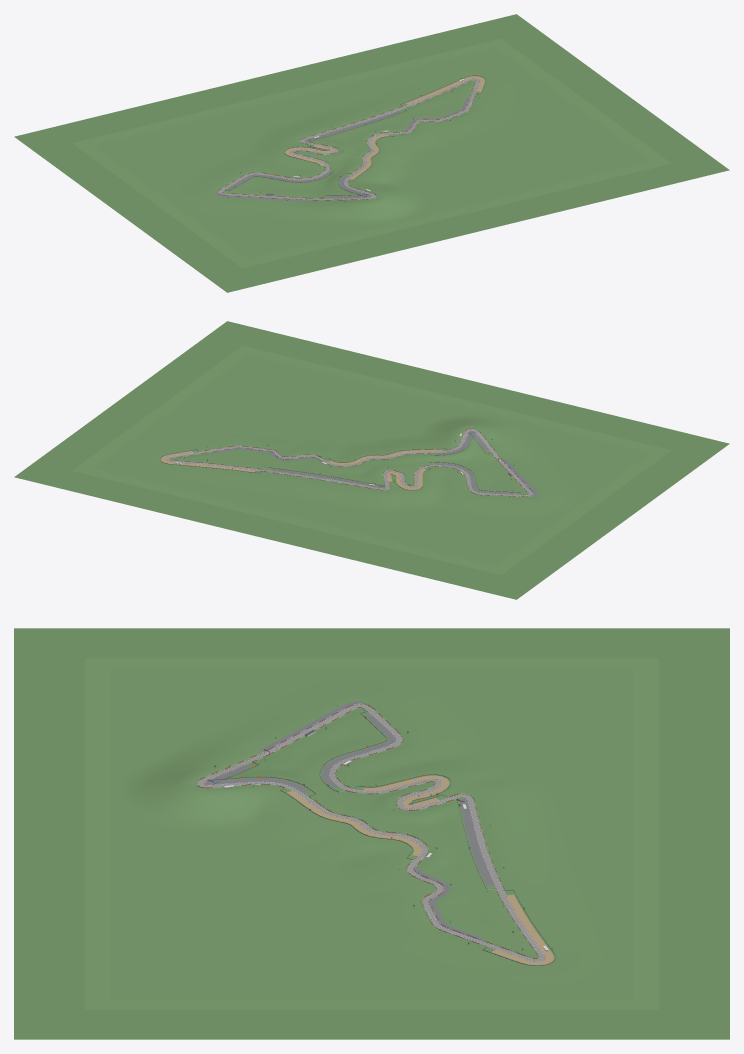
The model's file is cota.glb.
The picture shows the model from 3 angles, top to bottom: view 1: azimuth 30°, elevation 25°; view 2: azimuth 150°, elevation 25°; view 3: azimuth 270°, elevation 25°; orthographic projection. The views are drawn at different scales.
Parts seen in each view (by area): view 1: terrain_infield, terrain_outskirts, terrain_verge, track_surface, asphalt_runoff_zones, continuous_safety_barriers, track_runoff, gravel_runoff_zones, track_embankment; view 2: terrain_infield, terrain_outskirts, terrain_verge, track_surface, asphalt_runoff_zones, continuous_safety_barriers, track_runoff, gravel_runoff_zones, track_embankment; view 3: terrain_infield, terrain_outskirts, terrain_verge, track_surface, asphalt_runoff_zones, gravel_runoff_zones, track_runoff, continuous_safety_barriers, track_embankment, track_curbs.
Boxes of the visible parts, left/top/right/bottom form: terrain_infield: left=93, top=47, right=650, bottom=259; terrain_outskirts: left=14, top=14, right=729, bottom=292; terrain_verge: left=72, top=38, right=671, bottom=268; track_surface: left=219, top=78, right=479, bottom=199; asphalt_runoff_zones: left=214, top=98, right=469, bottom=201; continuous_safety_barriers: left=218, top=75, right=485, bottom=200; track_runoff: left=218, top=78, right=480, bottom=199; gravel_runoff_zones: left=285, top=76, right=484, bottom=179; track_embankment: left=217, top=80, right=477, bottom=200; terrain_infield: left=93, top=354, right=650, bottom=566; terrain_outskirts: left=14, top=321, right=729, bottom=599; terrain_verge: left=72, top=345, right=671, bottom=575; track_surface: left=166, top=429, right=532, bottom=496; asphalt_runoff_zones: left=210, top=431, right=537, bottom=496; continuous_safety_barriers: left=160, top=428, right=533, bottom=496; track_runoff: left=165, top=429, right=532, bottom=496; gravel_runoff_zones: left=161, top=449, right=441, bottom=489; track_embankment: left=170, top=428, right=531, bottom=496; terrain_infield: left=110, top=669, right=633, bottom=998; terrain_outskirts: left=14, top=628, right=729, bottom=1039; terrain_verge: left=85, top=658, right=658, bottom=1009; track_surface: left=198, top=705, right=544, bottom=961; asphalt_runoff_zones: left=204, top=701, right=494, bottom=939; gravel_runoff_zones: left=287, top=775, right=553, bottom=965; track_runoff: left=197, top=704, right=545, bottom=962; continuous_safety_barriers: left=196, top=703, right=555, bottom=965; track_embankment: left=196, top=704, right=539, bottom=959; track_curbs: left=198, top=704, right=545, bottom=961.
Size of the model in its own units: 3019 by 35.82 by 2219.
